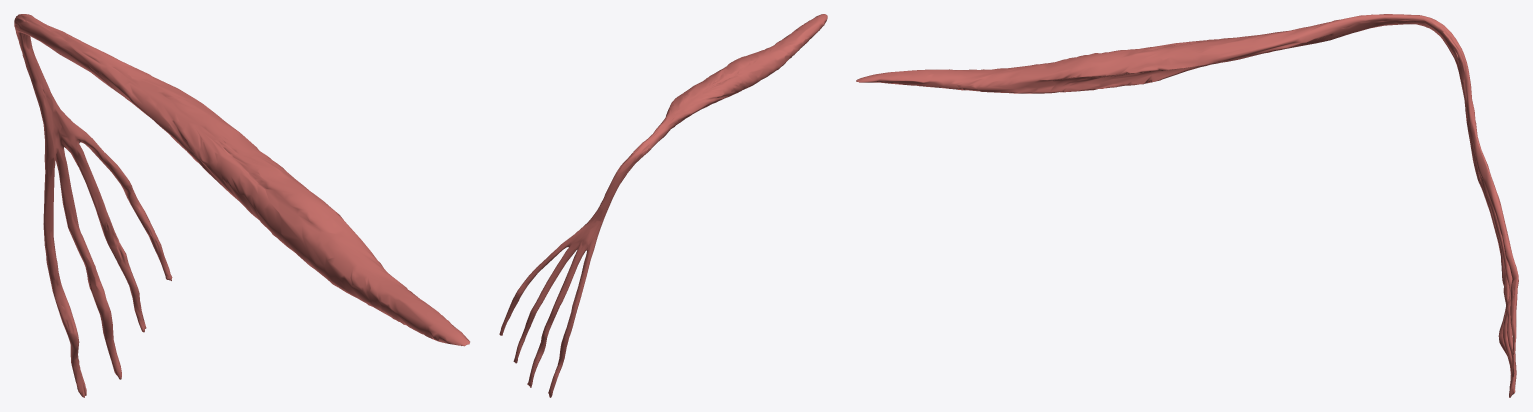
The picture shows the model from 3 angles, left to right: view 1: azimuth 30°, elevation 25°; view 2: azimuth 150°, elevation 25°; view 3: azimuth 270°, elevation 25°; orthographic projection. The views are drawn at different scales.
Parts seen in each view (by area): view 1: 左侧趾长屈肌; view 2: 左侧趾长屈肌; view 3: 左侧趾长屈肌.
Boxes of the visible parts, box(x1,y1,x2,y2) form: 左侧趾长屈肌: box(14, 14, 469, 397); 左侧趾长屈肌: box(499, 14, 827, 397); 左侧趾长屈肌: box(856, 14, 1518, 397).
Bounding box in the file's own units: 0.1392 × 0.2846 × 0.5063.
